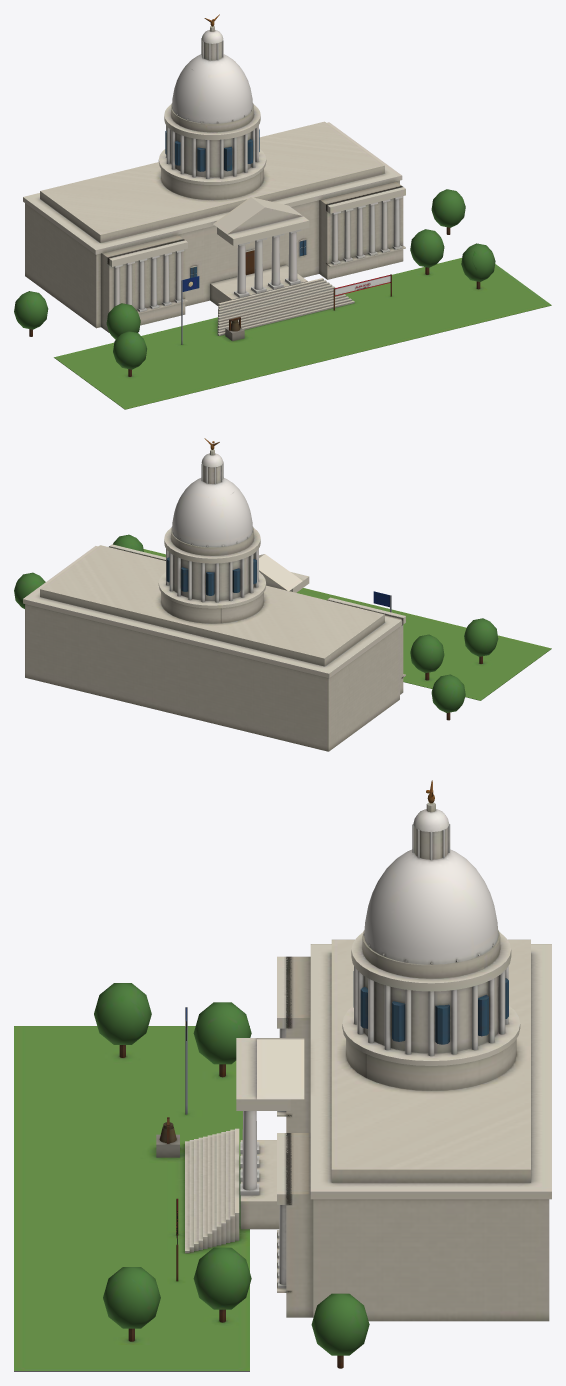
File: capitolio_idaho.glb
3 views of the same model, one above another, from view 1: azimuth 30°, elevation 25°; view 2: azimuth 150°, elevation 25°; view 3: azimuth 270°, elevation 25° (orthographic). The views are drawn at different scales.
Parts seen in each view (by area): view 1: capitolio_idaho; view 2: capitolio_idaho; view 3: capitolio_idaho.
Part boxes in pixels (<box>): capitolio_idaho: <box>14,14,551,409</box>; capitolio_idaho: <box>14,438,551,751</box>; capitolio_idaho: <box>14,780,551,1371</box>.
Size of the model in its own units: 94.09 by 50.2 by 59.3.
1 material, 1 textured.
